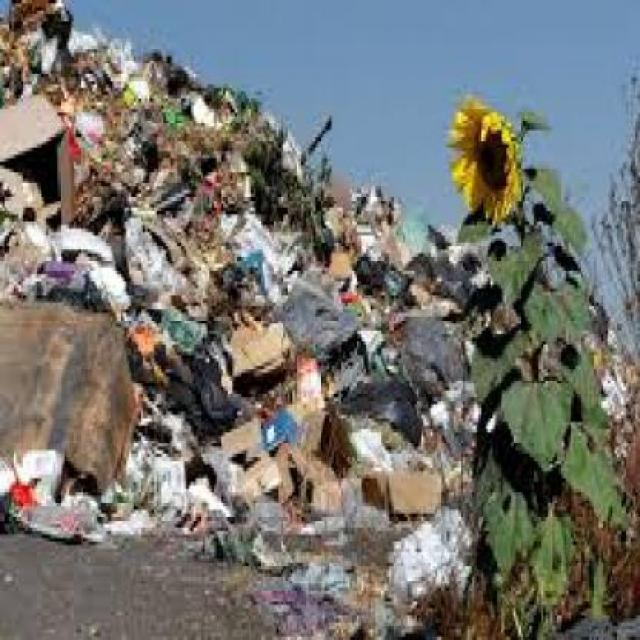garbage: (0, 0, 449, 636)
